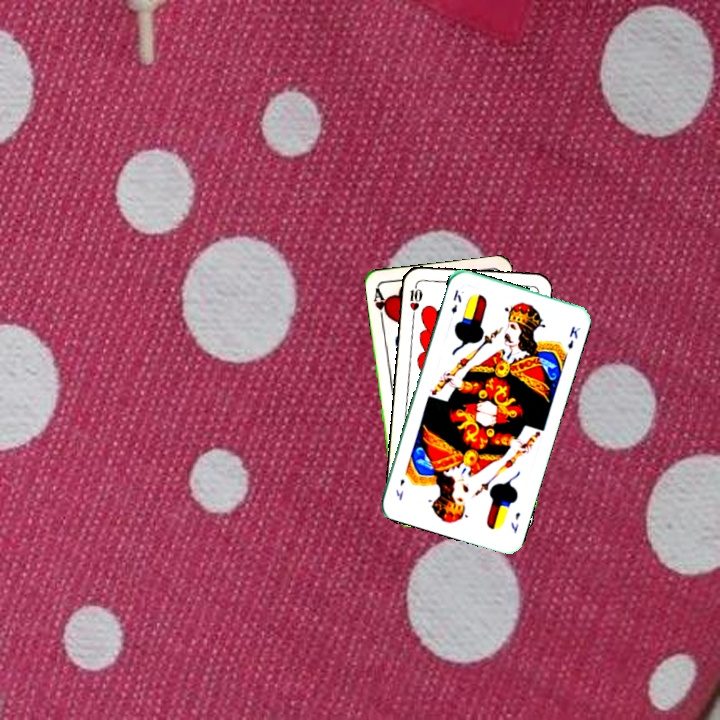EK: (447, 286, 464, 316), (507, 508, 523, 536)
H10: (405, 279, 425, 320)
HA: (370, 284, 392, 325)
